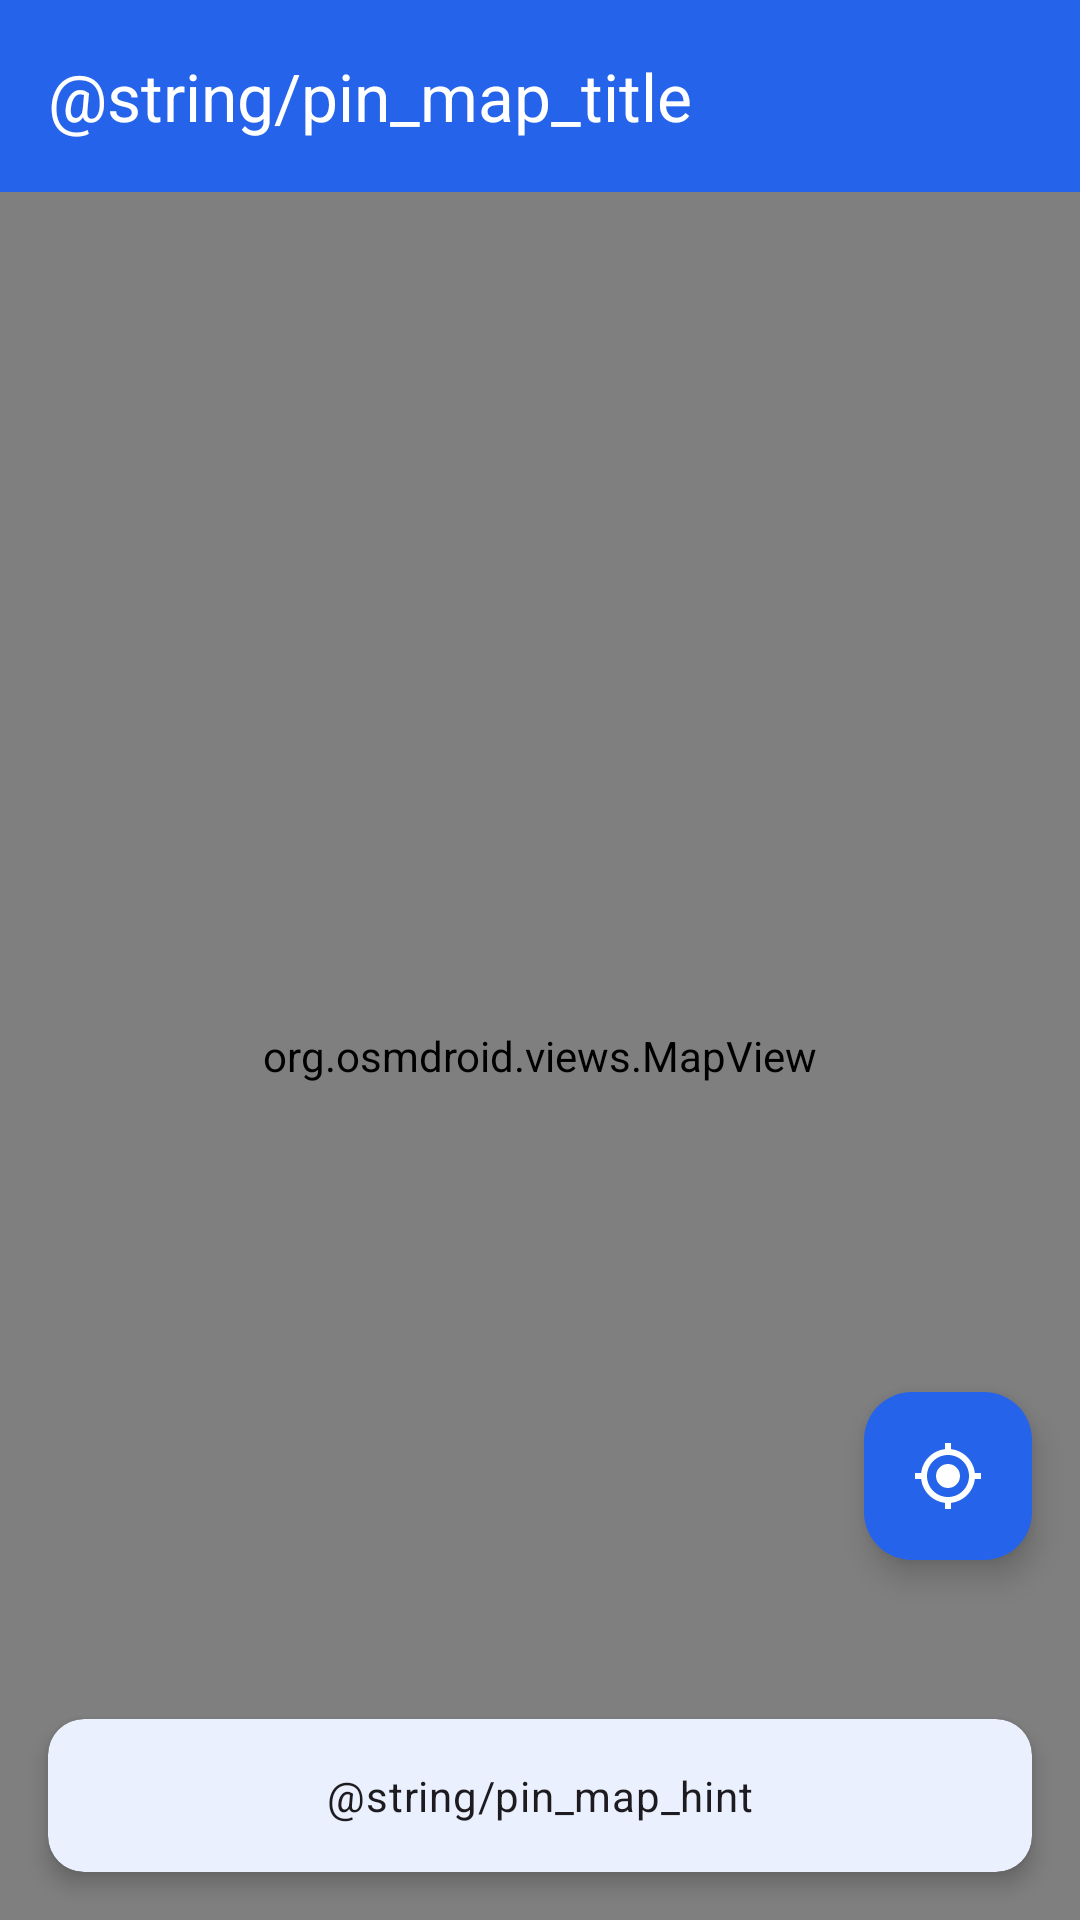

Icons on this 1080x1920 Android screen, each with the point to tap as point (x, y):
My Location: point (948, 1476)
